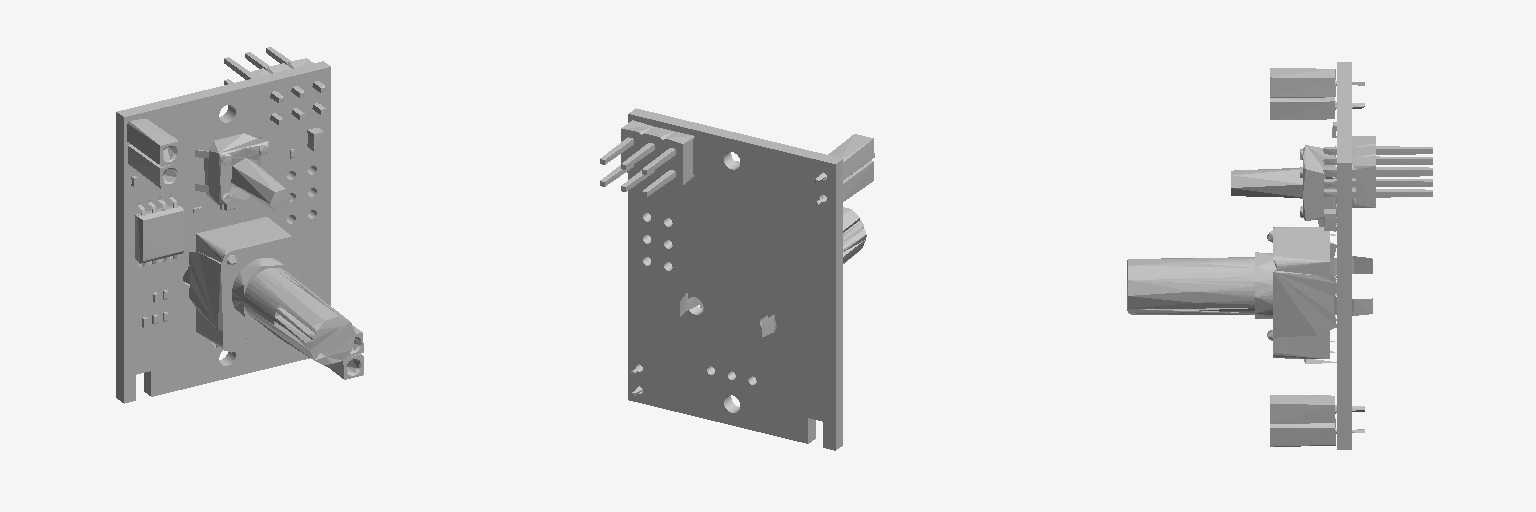
Rendered from PCB_minimo_1-0.obj.
3 views of the same model, side by side, from view 1: azimuth 30°, elevation 25°; view 2: azimuth 150°, elevation 25°; view 3: azimuth 270°, elevation 25° (orthographic).
Size of the model in its own units: 24.97 by 32.97 by 31.99.